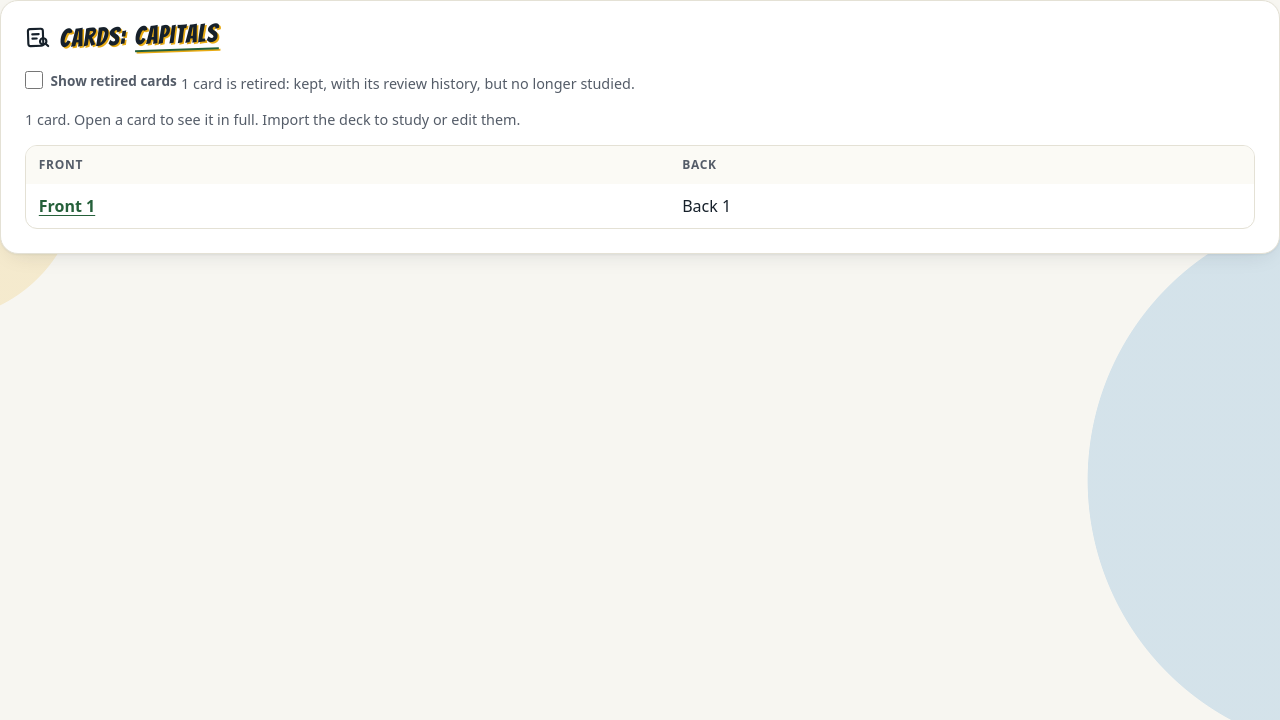
LibraryBrowserScreen › hides retired cards until asked, counting only the others
Check: the text "1 card." is shown, box x1=25 y1=110 x2=70 y2=129
Check: the text "Front 2" is not shown
Click the checkbox labelled "Show retired cards". click: click(34, 80)
box: x1=25 y1=71 x2=43 y2=89
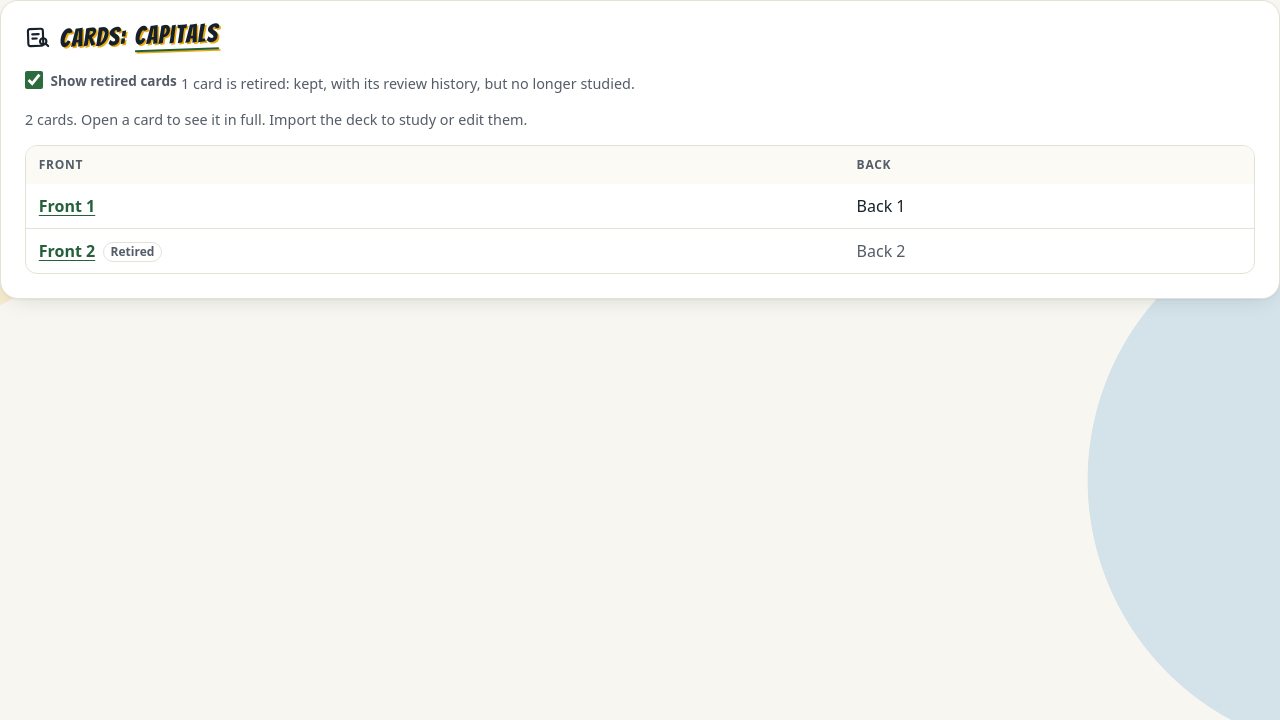
Check: the link "Front 2 Retired" is shown, box x1=39 y1=240 x2=162 y2=262
Check: the text "Retired" is shown, box x1=103 y1=242 x2=162 y2=262
